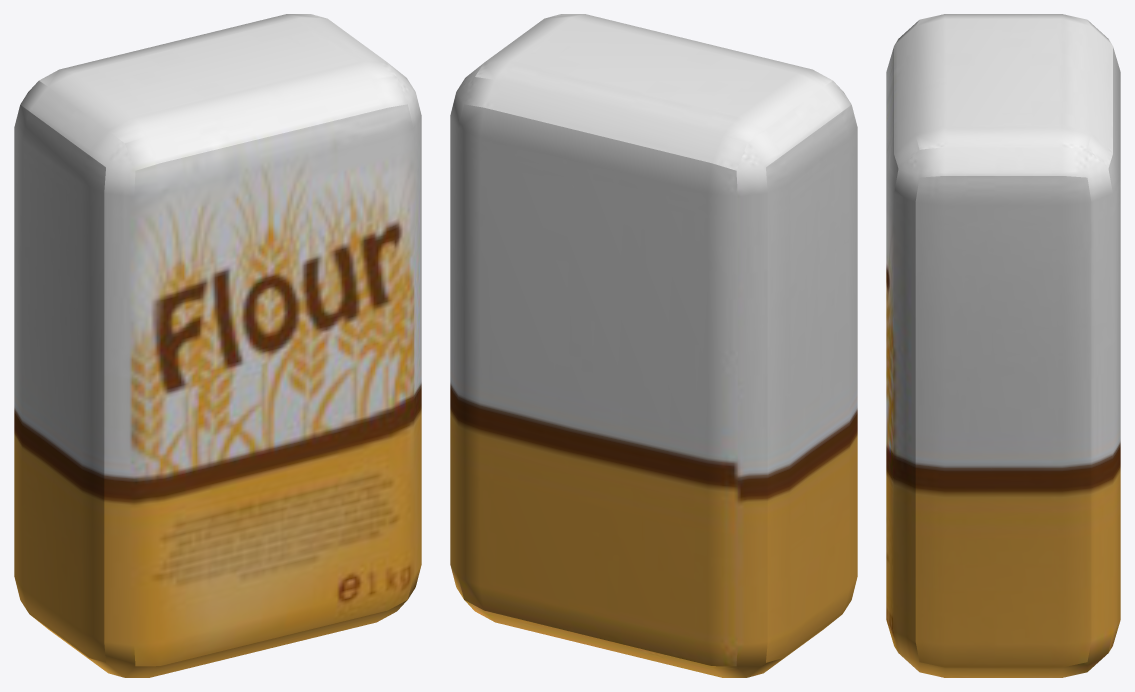
Rendered from flour.glb.
The picture shows the model from 3 angles, left to right: view 1: azimuth 30°, elevation 25°; view 2: azimuth 150°, elevation 25°; view 3: azimuth 270°, elevation 25°; orthographic projection. The views are drawn at different scales.
Parts seen in each view (by area): view 1: Flour; view 2: Flour; view 3: Flour.
Part boxes in pixels (<box>): Flour: <box>14,14,421,677</box>; Flour: <box>450,14,857,677</box>; Flour: <box>886,14,1120,677</box>.
Bounding box in the file's own units: 0.1297 × 0.2083 × 0.0813.
Materials: 1 (1 with a texture image).
